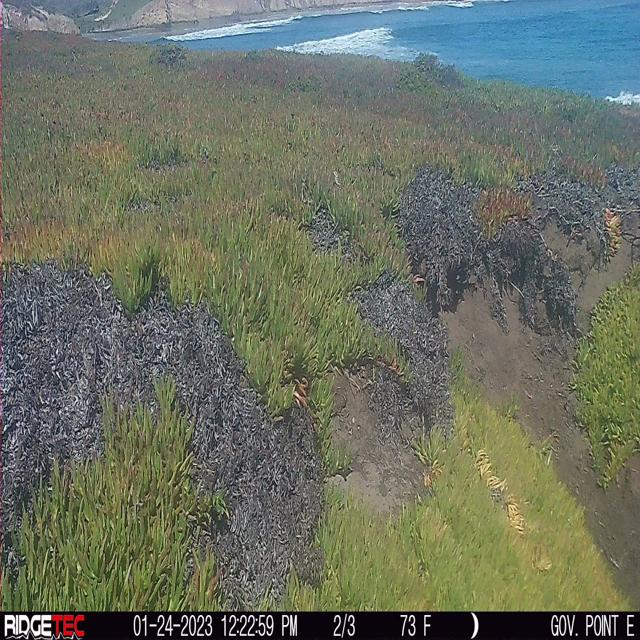bird: (327, 160, 354, 195)
